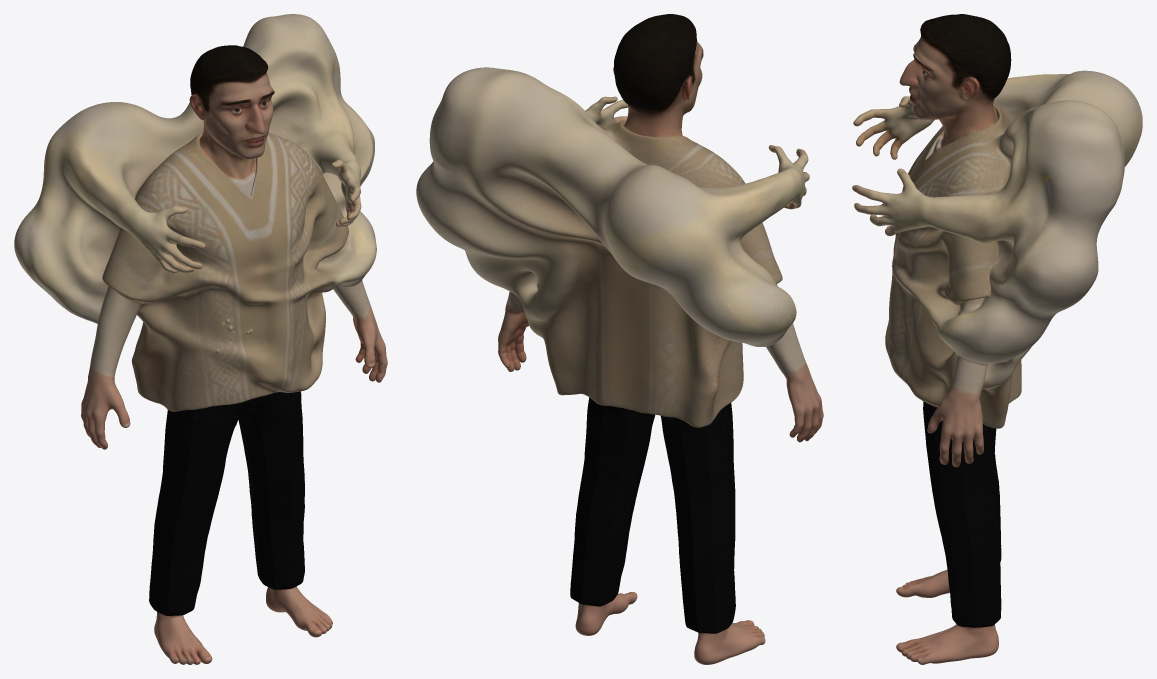
File: 22-el-hombre-que-fue-llevado-a-la-peña-sanabria-optimized.glb
3 views of the same model, side by side, from view 1: azimuth 30°, elevation 25°; view 2: azimuth 150°, elevation 25°; view 3: azimuth 270°, elevation 25° (orthographic). The views are drawn at different scales.
Visible parts, largest first — view 1: tripo_node_dc4804d2-793b-439b-9d3e-1c09cf2efcac; view 2: tripo_node_dc4804d2-793b-439b-9d3e-1c09cf2efcac; view 3: tripo_node_dc4804d2-793b-439b-9d3e-1c09cf2efcac.
Boxes of the visible parts, x1=… form: tripo_node_dc4804d2-793b-439b-9d3e-1c09cf2efcac: x1=14, y1=14, x2=387, y2=664; tripo_node_dc4804d2-793b-439b-9d3e-1c09cf2efcac: x1=416, y1=14, x2=823, y2=664; tripo_node_dc4804d2-793b-439b-9d3e-1c09cf2efcac: x1=852, y1=14, x2=1142, y2=664.
Bounding box in the file's own units: 0.6209 × 1 × 0.4331.
1 material, 1 textured.
